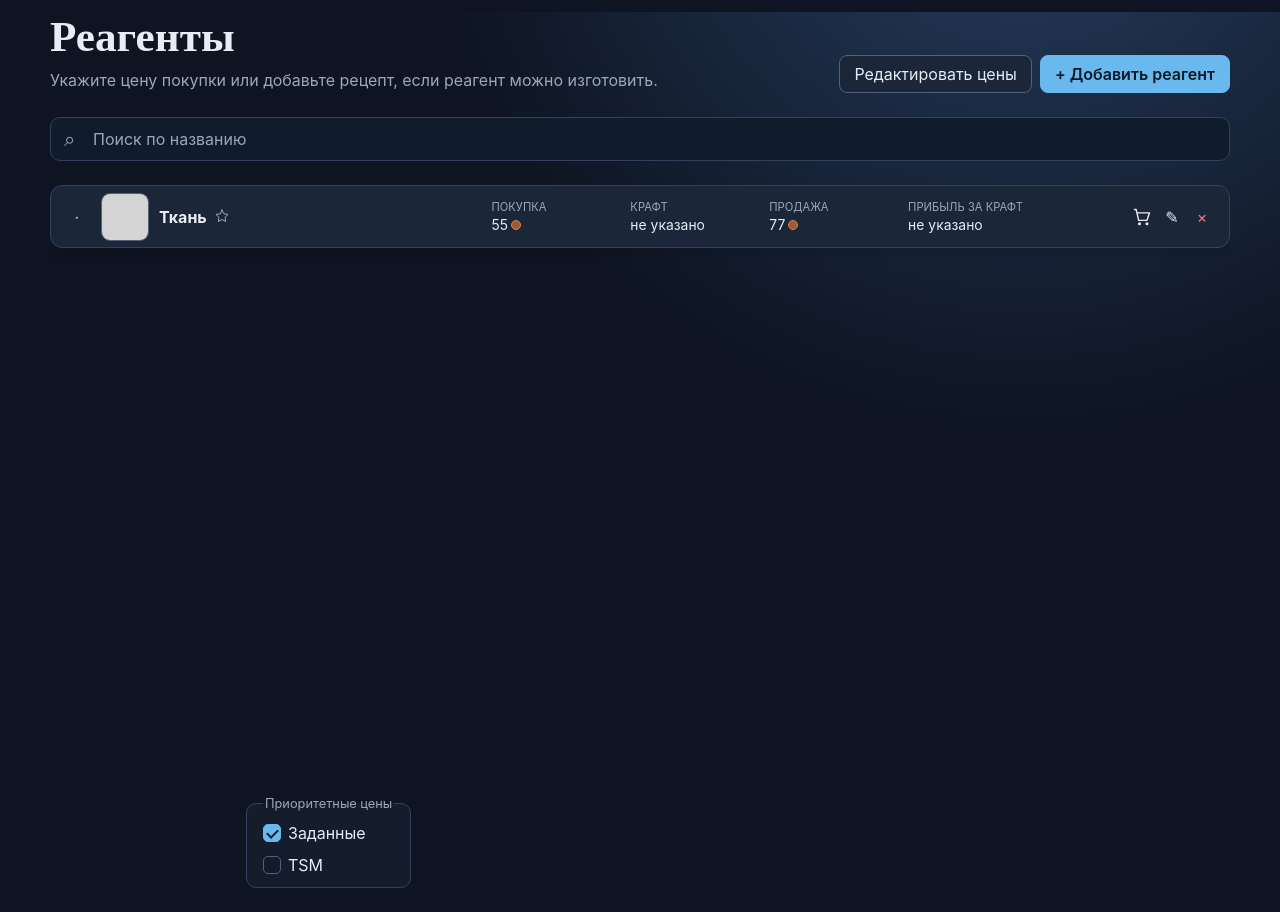
Test: TSM в tbc › все по TSM охватывает покупку/продажу, массовое редактирование меняет ручную сумму
Click the radio button labelled "TSM" at [293, 865], box [263,855,323,875]
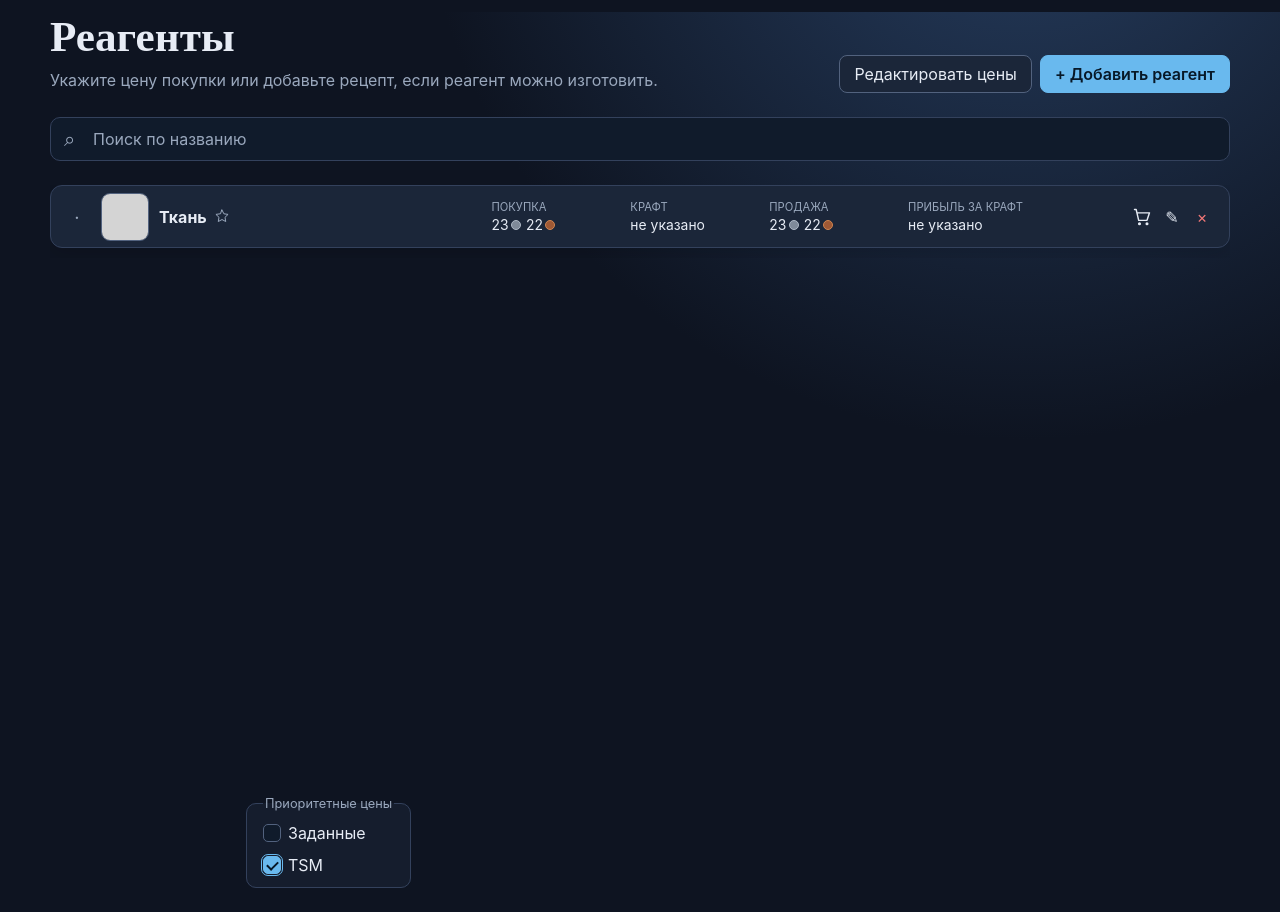
Check: the text "23" is shown 2 times, box [492,217,509,233]; [769,217,786,233]
Click the button "Редактировать цены" at [936, 74], box [839,55,1032,93]
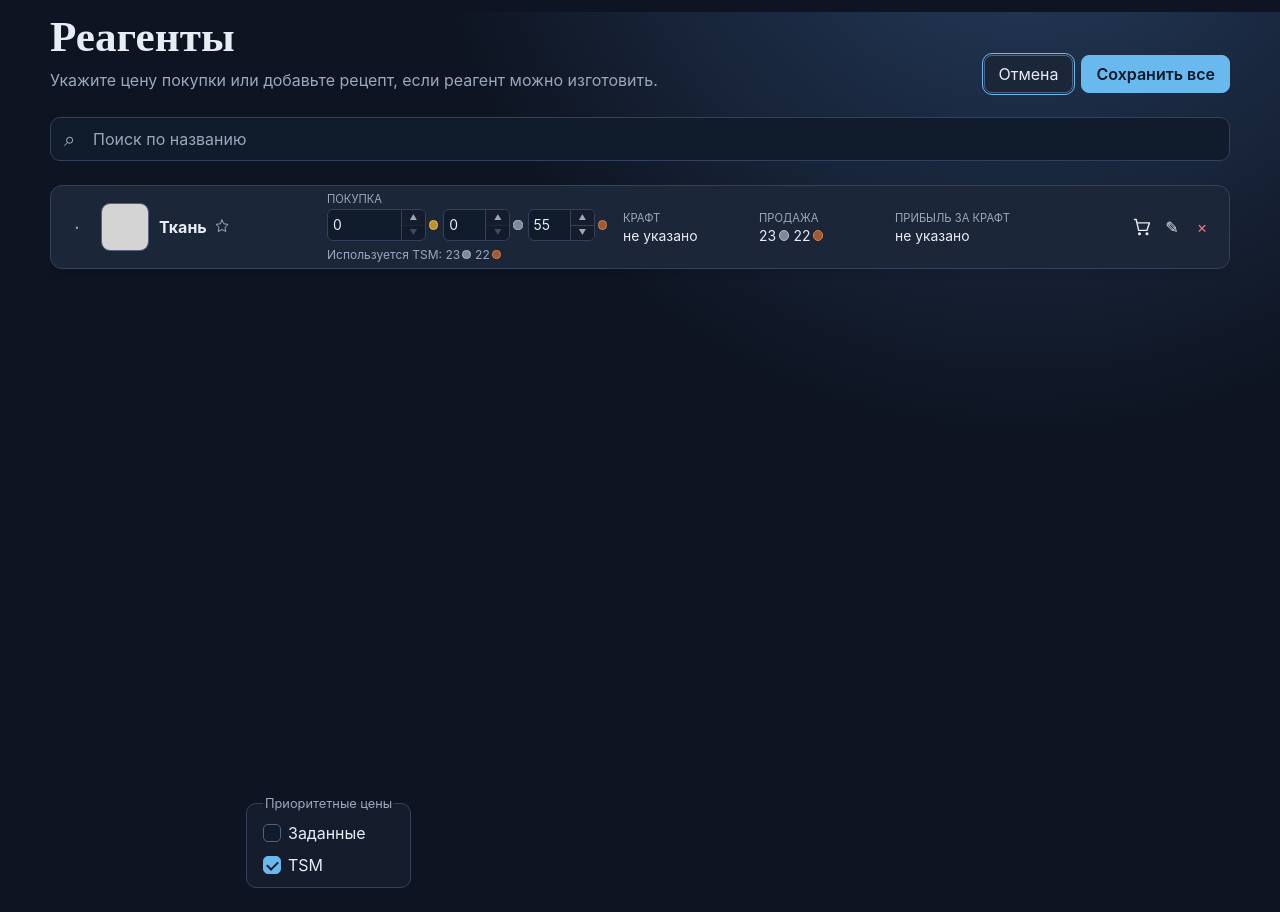
Replace the text in the number field named "Ручная цена покупки: Ткань, медь" with "99" at [549, 225], box [529,210,570,240]
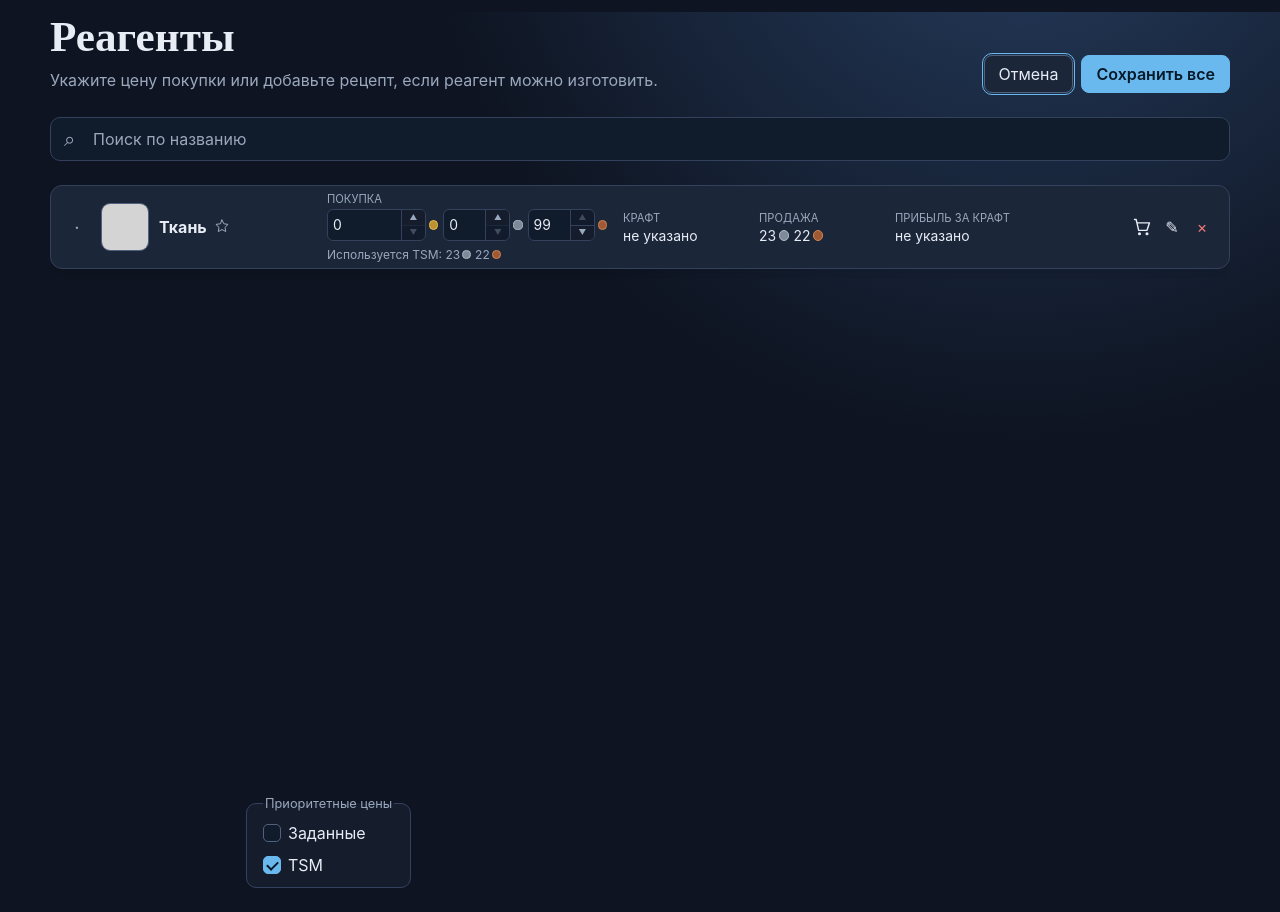
Check: the text "Используется TSM:" is shown, box [327,247,445,262]
Click the button "Сохранить все" at [1156, 74], box [1082,55,1230,93]
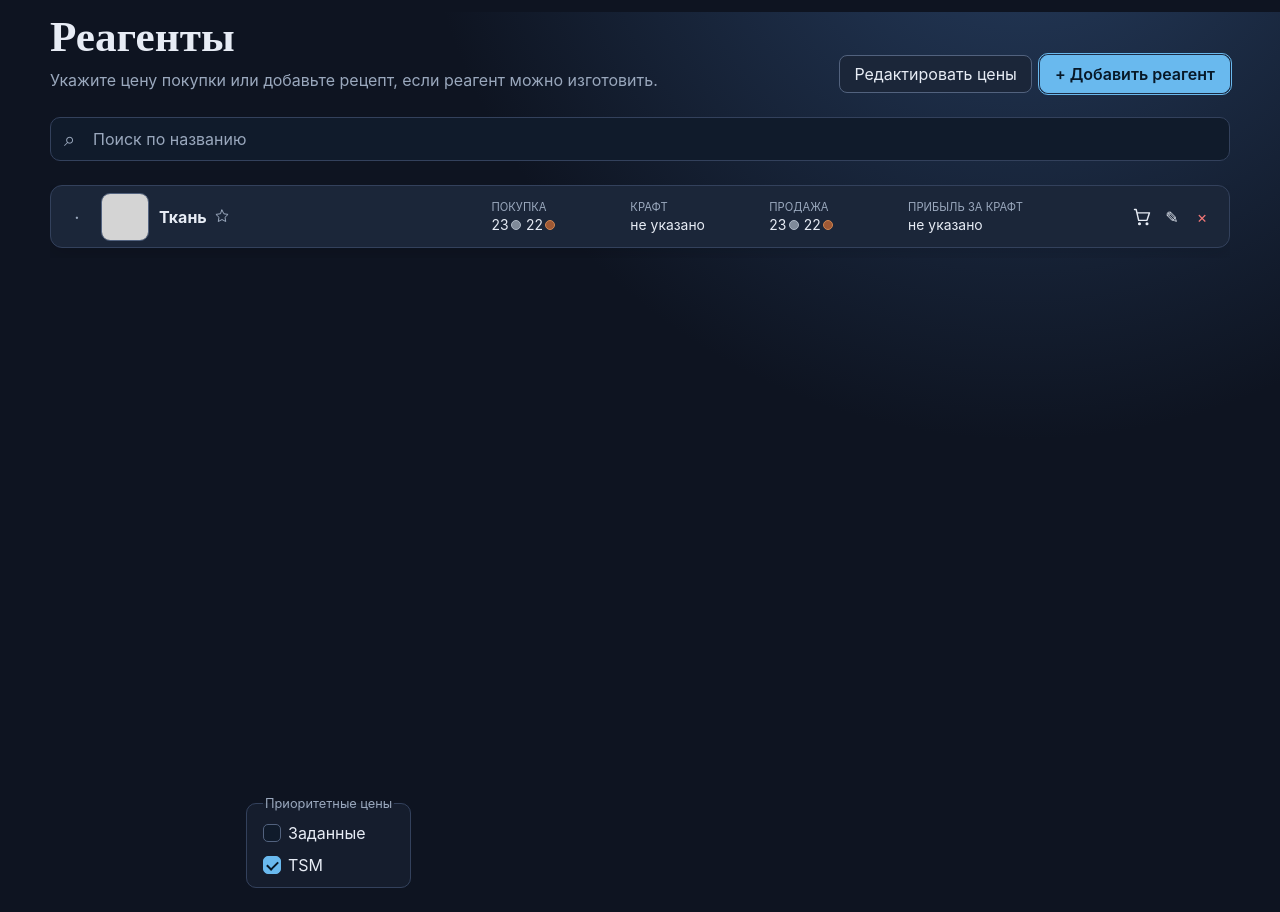
Click the radio button labelled "Заданные" at [314, 833], box [263,823,366,843]
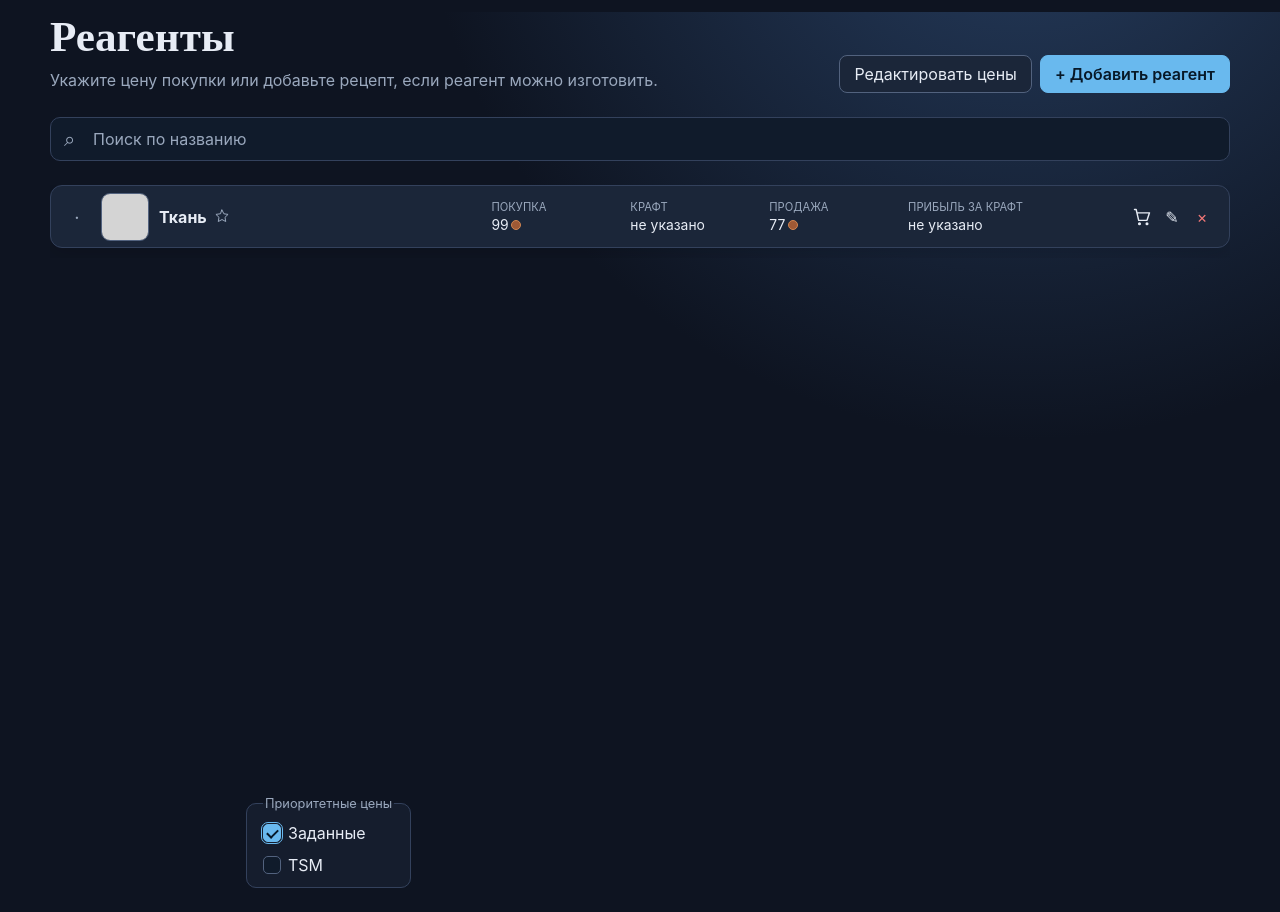
Check: the text "99" is shown, box [492,217,509,233]
